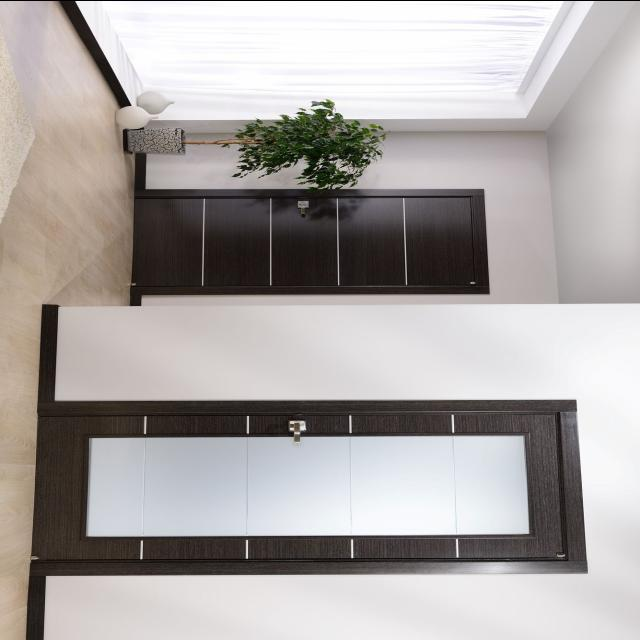close: (32, 406, 571, 562), (127, 190, 476, 286)
